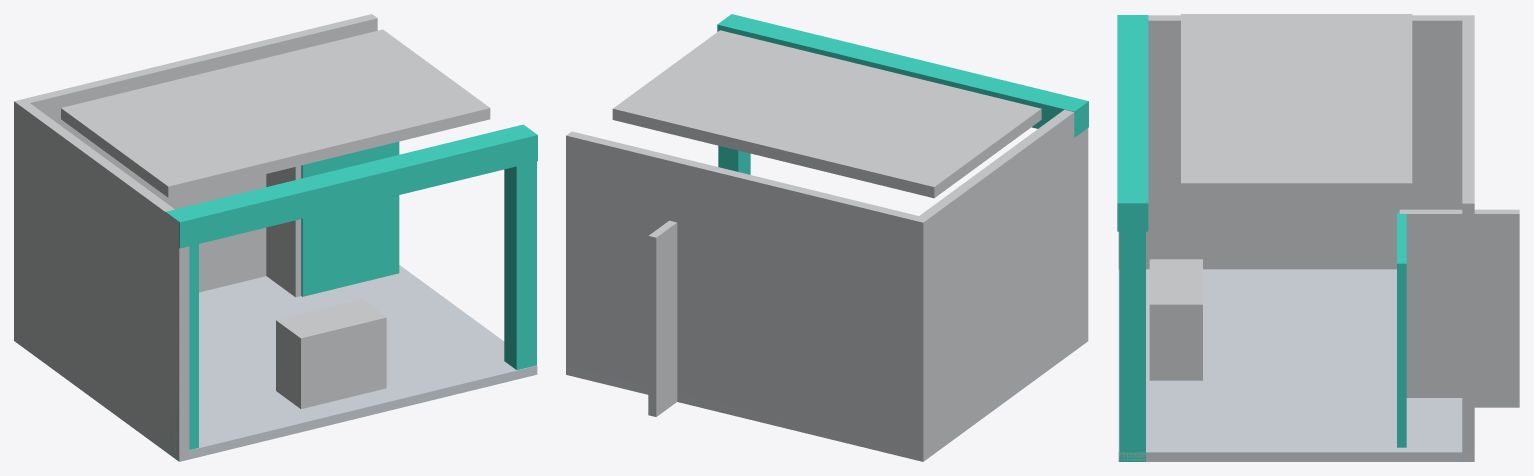
3 views of the same model, side by side, from view 1: azimuth 30°, elevation 25°; view 2: azimuth 150°, elevation 25°; view 3: azimuth 270°, elevation 25° (orthographic). The views are drawn at different scales.
Visible parts, largest first — view 1: Exhibition Booth Concept; view 2: Exhibition Booth Concept; view 3: Exhibition Booth Concept.
Boxes of the visible parts, box(x1,y1,x2,y2) form: Exhibition Booth Concept: box(14, 14, 537, 461); Exhibition Booth Concept: box(566, 14, 1088, 461); Exhibition Booth Concept: box(1117, 14, 1519, 461).
Size of the model in its own units: 5 by 3.34 by 4.52.
